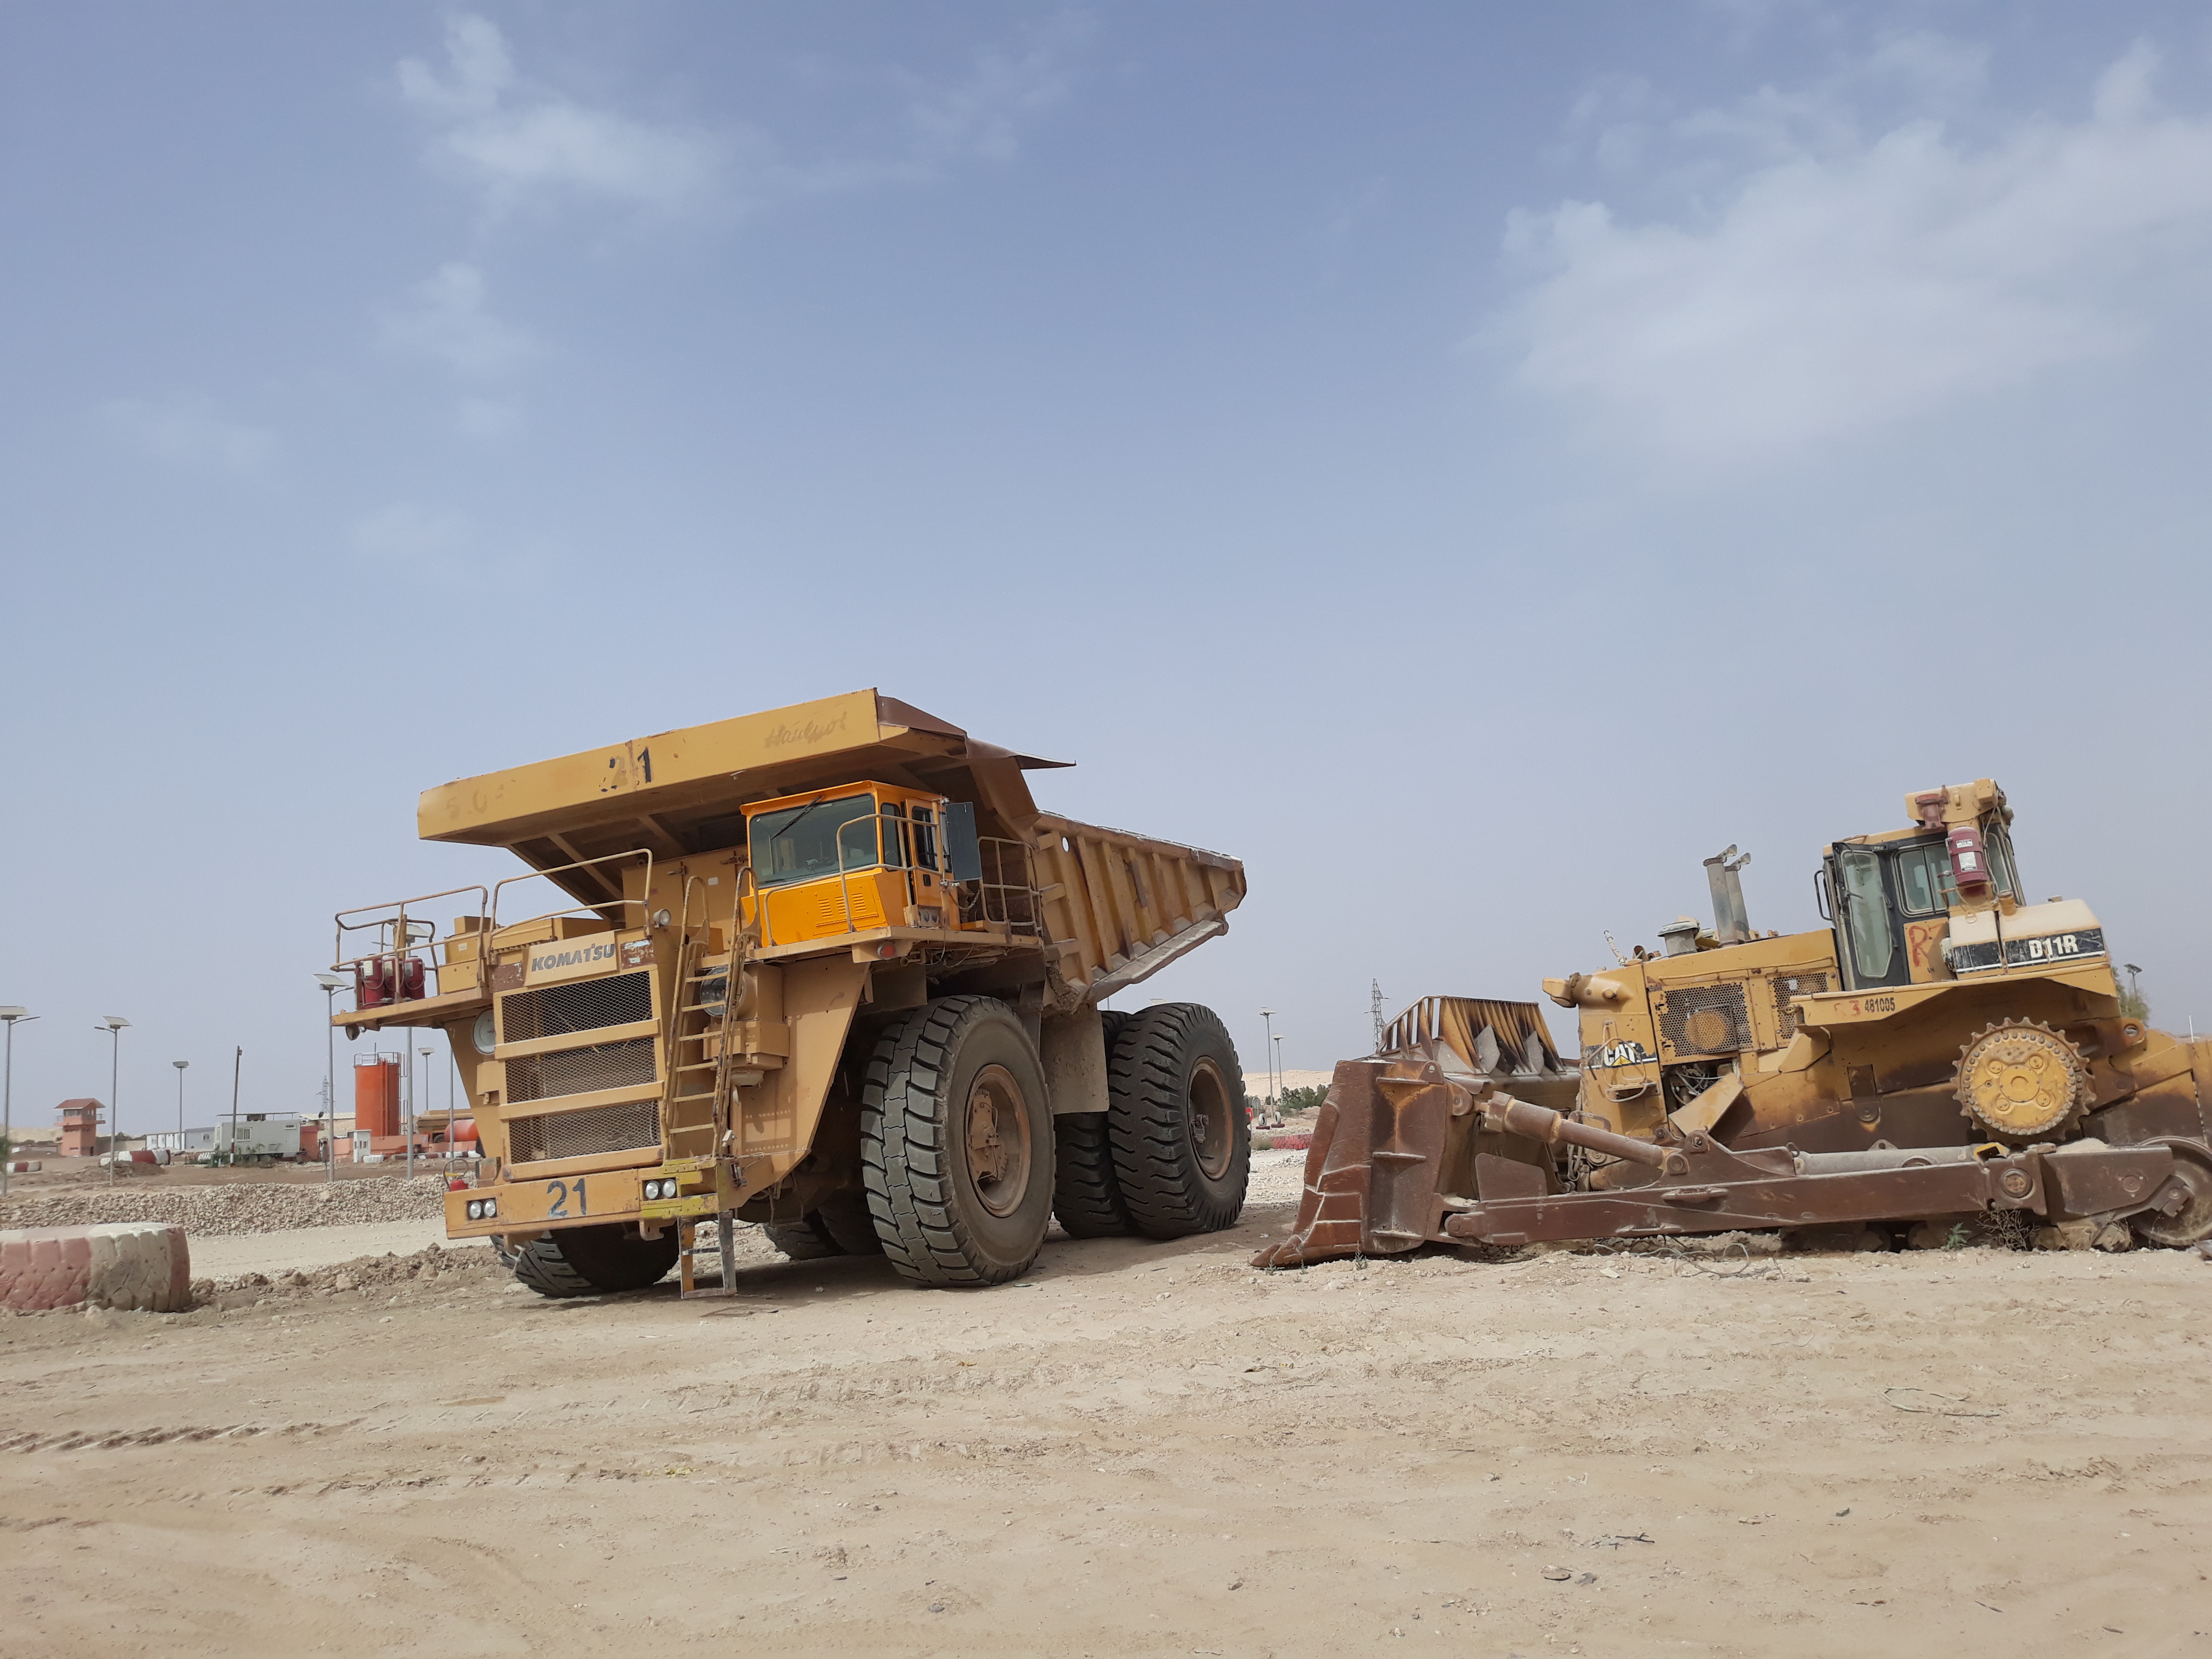bulldozer: (1258, 756, 2202, 1335)
camion: (388, 673, 1280, 1349)
